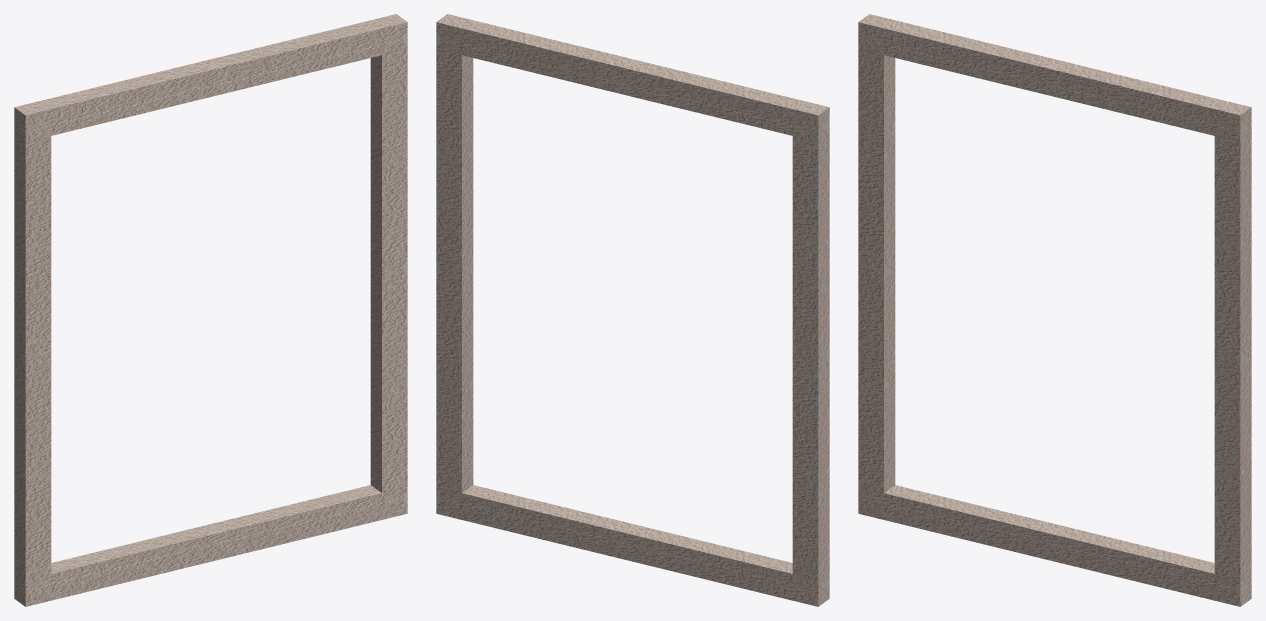
The model's file is window.FBX.
3 renders of one model, left to right at view 1: azimuth 30°, elevation 25°; view 2: azimuth 150°, elevation 25°; view 3: azimuth 330°, elevation 25°, orthographic.
Parts seen in each view (by area): view 1: window; view 2: window; view 3: window.
Part boxes in pixels (x1,y1,x2,y2): window: (14, 14, 407, 606); window: (436, 14, 829, 606); window: (858, 14, 1251, 606).
Bounding box in the file's own units: 34.32 × 42.2 × 1.74.
